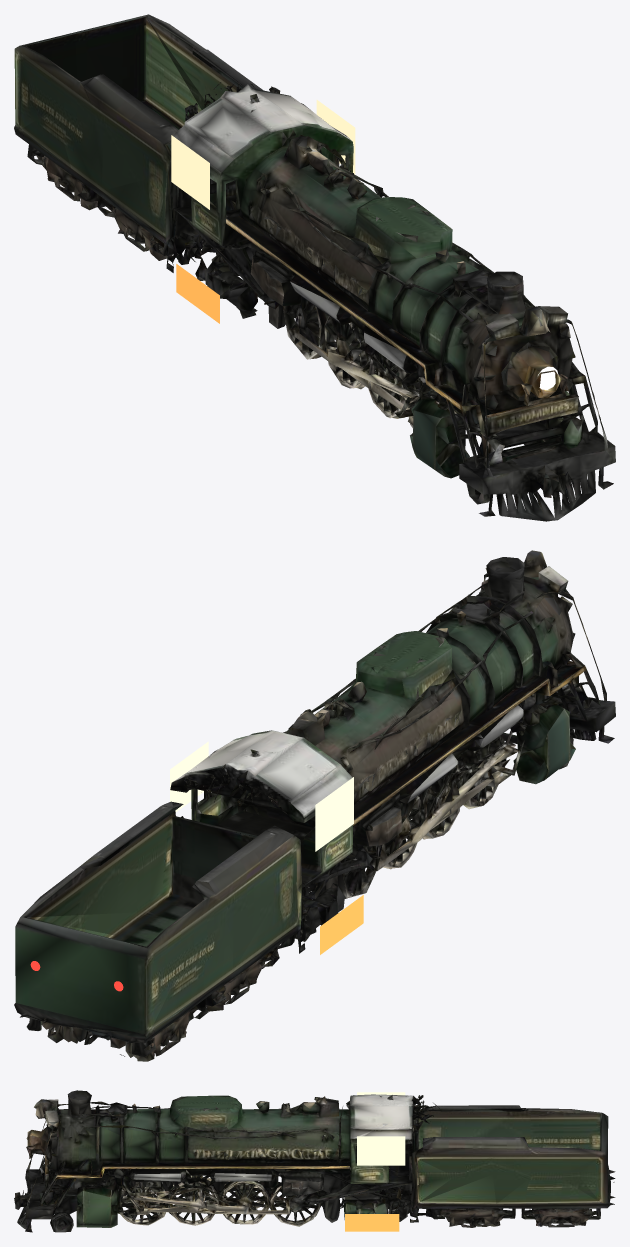
File: m-steam.glb
The picture shows the model from 3 angles, top to bottom: view 1: azimuth 30°, elevation 25°; view 2: azimuth 150°, elevation 25°; view 3: azimuth 270°, elevation 25°; orthographic projection. The views are drawn at different scales.
Visible parts, largest first — view 1: Mesh_0, cabwin_L, firebox_L, cabwin_R; view 2: Mesh_0, cabwin_L, firebox_L, cabwin_R; view 3: Mesh_0, cabwin_R, firebox_R.
Boxes of the visible parts, bbox=[...] form: Mesh_0: bbox=[14, 14, 615, 521]; cabwin_L: bbox=[171, 135, 209, 209]; firebox_L: bbox=[176, 264, 219, 323]; cabwin_R: bbox=[316, 100, 355, 174]; Mesh_0: bbox=[14, 550, 615, 1061]; cabwin_L: bbox=[315, 777, 353, 851]; firebox_L: bbox=[320, 895, 363, 954]; cabwin_R: bbox=[170, 741, 208, 811]; Mesh_0: bbox=[14, 1090, 615, 1232]; cabwin_R: bbox=[357, 1136, 405, 1165]; firebox_R: bbox=[345, 1214, 399, 1231].
Size of the model in its own units: 0.3459 by 0.4662 by 2.
5 materials, 1 textured.
